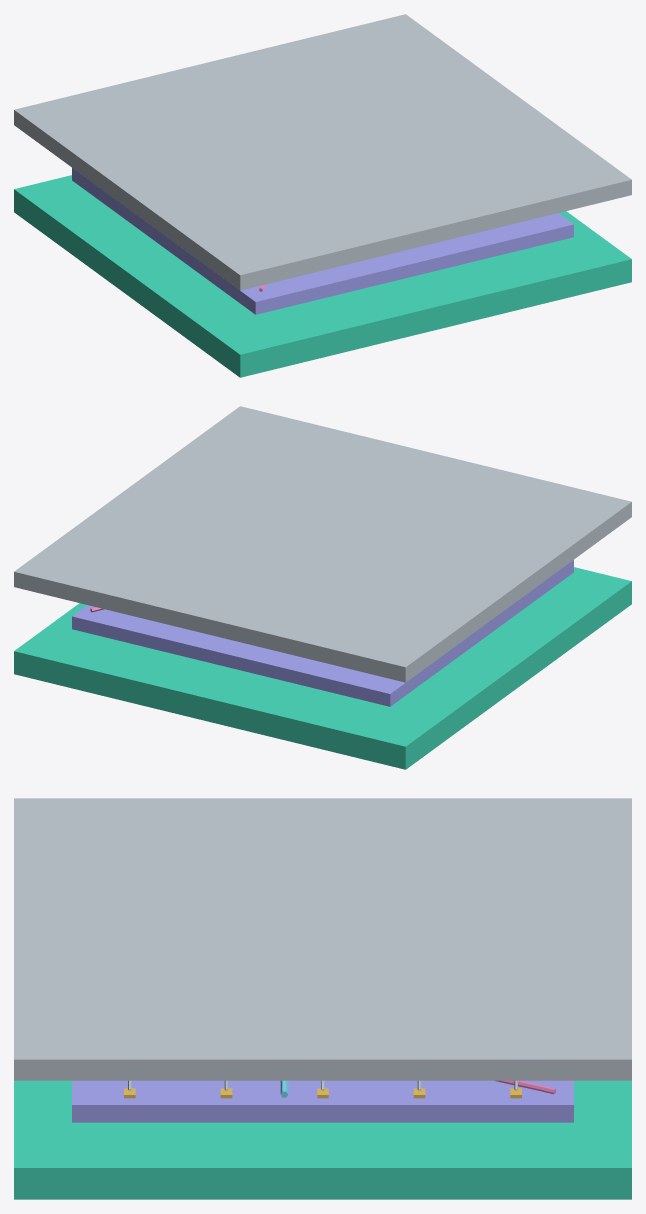
The model's file is qpu_chip_transmon.glb.
3 renders of one model, top to bottom at view 1: azimuth 30°, elevation 25°; view 2: azimuth 150°, elevation 25°; view 3: azimuth 270°, elevation 25°, orthographic. The views are drawn at different scales.
Visible parts, largest first — view 1: package-lid, package-pcb, chip-substrate; view 2: package-lid, package-pcb, chip-substrate; view 3: package-lid, package-pcb, chip-substrate, bond-pads.
Boxes of the visible parts, left/top/right/bottom form: package-lid: left=14, top=14, right=631, bottom=290; package-pcb: left=14, top=175, right=631, bottom=377; chip-substrate: left=72, top=168, right=573, bottom=314; package-lid: left=14, top=406, right=631, bottom=682; package-pcb: left=14, top=567, right=631, bottom=769; chip-substrate: left=72, top=560, right=573, bottom=706; package-lid: left=14, top=798, right=631, bottom=1080; package-pcb: left=14, top=1080, right=631, bottom=1199; chip-substrate: left=72, top=1080, right=573, bottom=1122; bond-pads: left=124, top=1088, right=521, bottom=1098.
Size of the model in its own units: 0.32 by 0.08 by 0.32.
